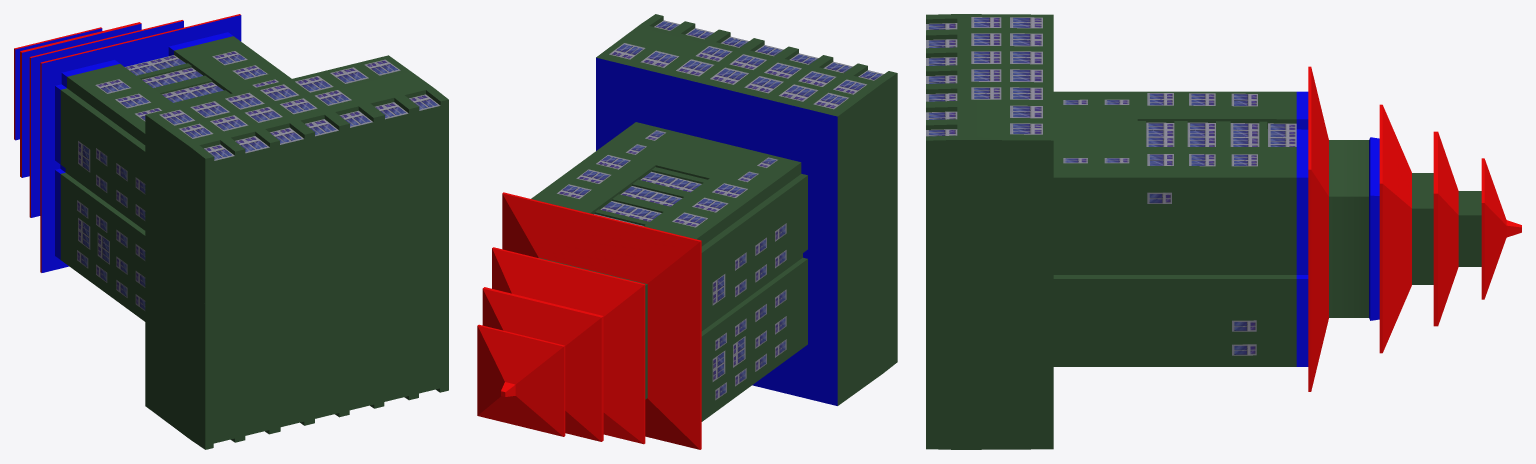
The model's file is block_fat_03.FBX.
3 views of the same model, side by side, from view 1: azimuth 30°, elevation 25°; view 2: azimuth 150°, elevation 25°; view 3: azimuth 270°, elevation 25° (orthographic). The views are drawn at different scales.
Parts seen in each view (by area): view 1: Box1043, Box1042, building_6s_009, 10x10_3s014; view 2: building_6s_009, Box1043, 10x10_3s014, Box1042; view 3: building_6s_009, Box1043, 10x10_3s014, Box1042.
Part boxes in pixels (x1=…): Box1043: x1=145, y1=55, x2=448, y2=304; Box1042: x1=145, y1=245, x2=448, y2=449; building_6s_009: x1=40, y1=14, x2=291, y2=321; 10x10_3s014: x1=14, y1=20, x2=183, y2=217; building_6s_009: x1=502, y1=122, x2=807, y2=449; Box1043: x1=596, y1=14, x2=897, y2=261; 10x10_3s014: x1=477, y1=247, x2=647, y2=444; Box1042: x1=752, y1=218, x2=897, y2=405; building_6s_009: x1=1053, y1=66, x2=1328, y2=391; Box1043: x1=926, y1=14, x2=1053, y2=294; 10x10_3s014: x1=1329, y1=104, x2=1521, y2=353; Box1042: x1=926, y1=295, x2=1053, y2=449.
Bounding box in the file's own units: 28 × 32.45 × 56.02.
